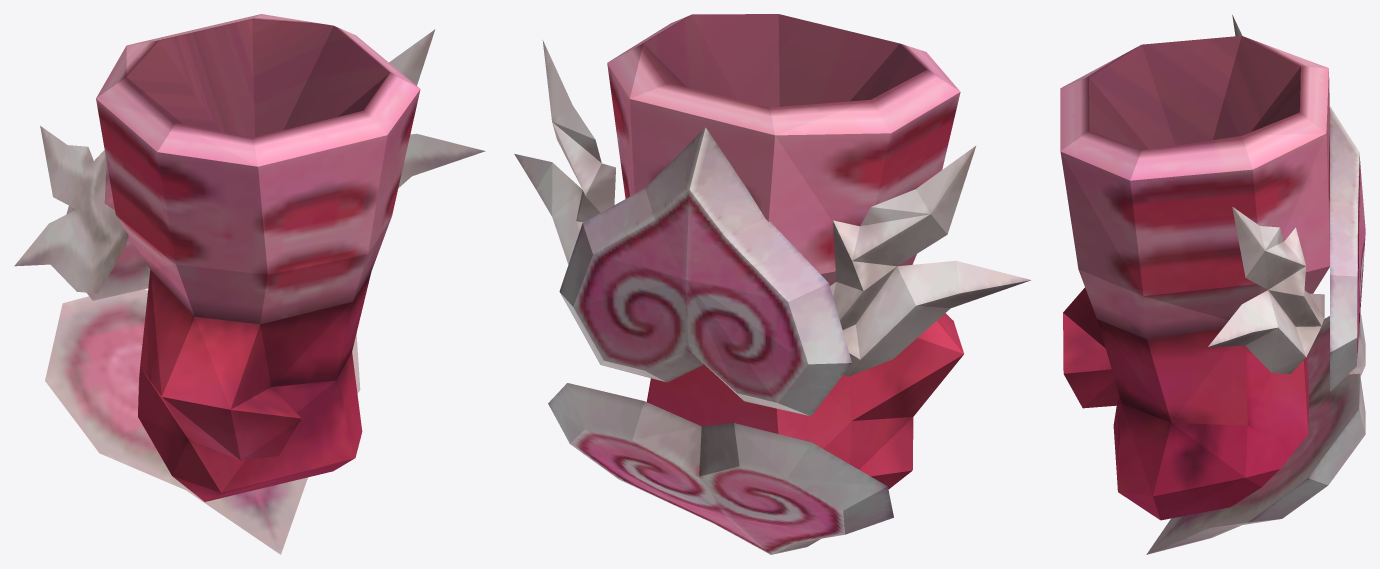
Rendered from Panda_heartGauntlet_left.obj.
The picture shows the model from 3 angles, left to right: view 1: azimuth 30°, elevation 25°; view 2: azimuth 150°, elevation 25°; view 3: azimuth 270°, elevation 25°; orthographic projection. The views are drawn at different scales.
Parts seen in each view (by area): view 1: Panda_heartGauntlet_tri [left]; view 2: Panda_heartGauntlet_tri [left]; view 3: Panda_heartGauntlet_tri [left].
Boxes of the visible parts, bbox=[...] form: Panda_heartGauntlet_tri [left]: bbox=[14, 14, 485, 554]; Panda_heartGauntlet_tri [left]: bbox=[514, 14, 1031, 554]; Panda_heartGauntlet_tri [left]: bbox=[1060, 15, 1365, 554].
Bounding box in the file's own units: 0.2451 × 0.2331 × 0.1378.
1 material, 1 textured.
